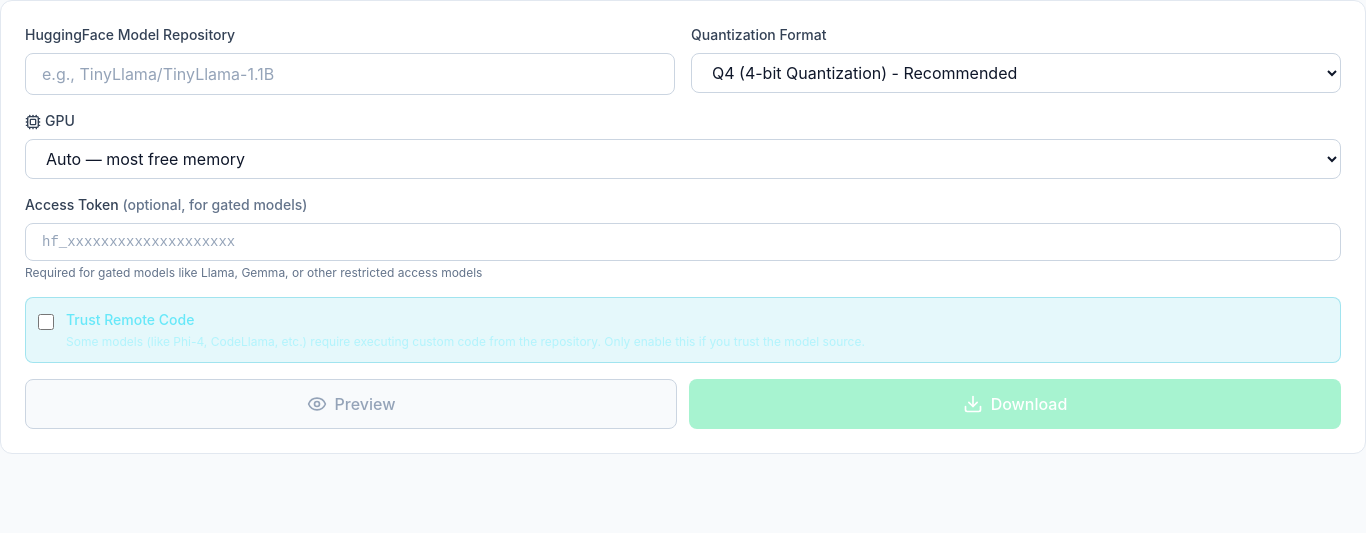
it: ModelDownloadForm › Validation › should show validation error for invalid repository ID format
Note: Enter invalid format (no slash)
Type "invalid-repo" into the field labelled "HuggingFace Model Repository".
click(350, 74); type("invalid-repo")  # box x1=25 y1=53 x2=675 y2=95
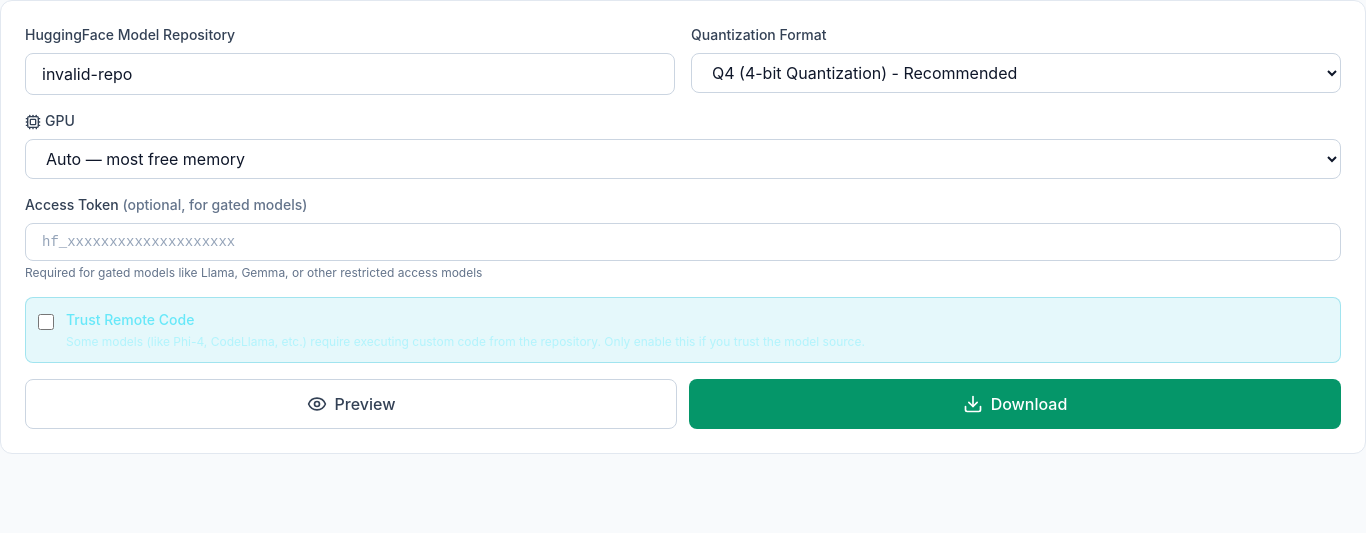
Click the button "Download".
click(1015, 404)  # box x1=689 y1=379 x2=1341 y2=429
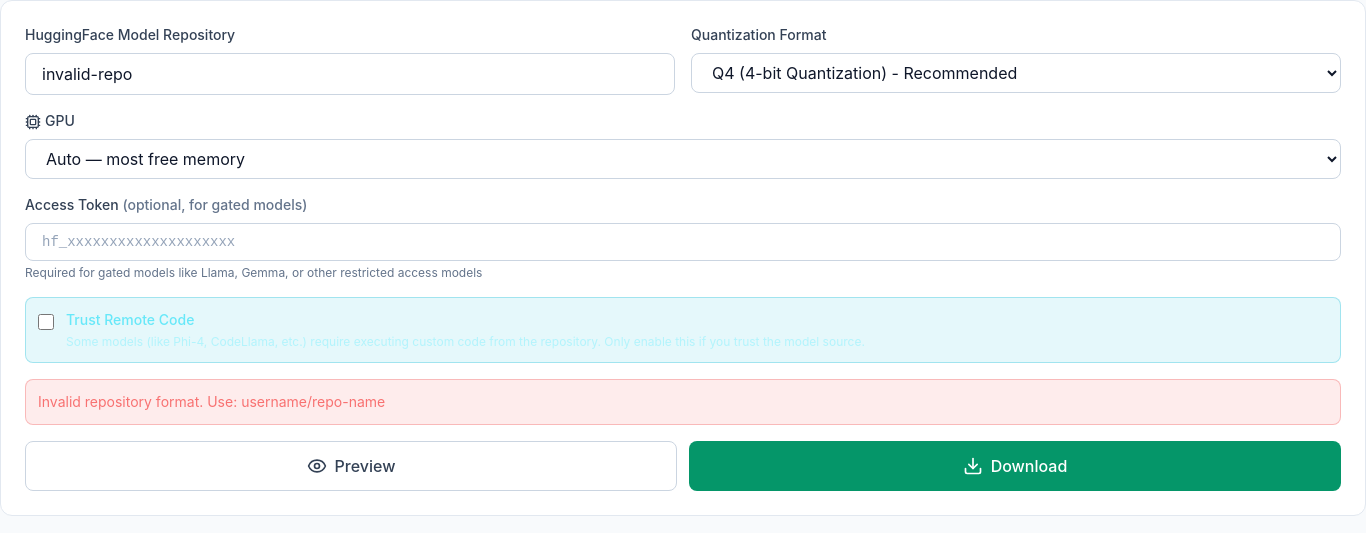
Check: the text "Invalid repository format. Use: username/repo-name" is shown, box x1=25 y1=379 x2=1341 y2=425
